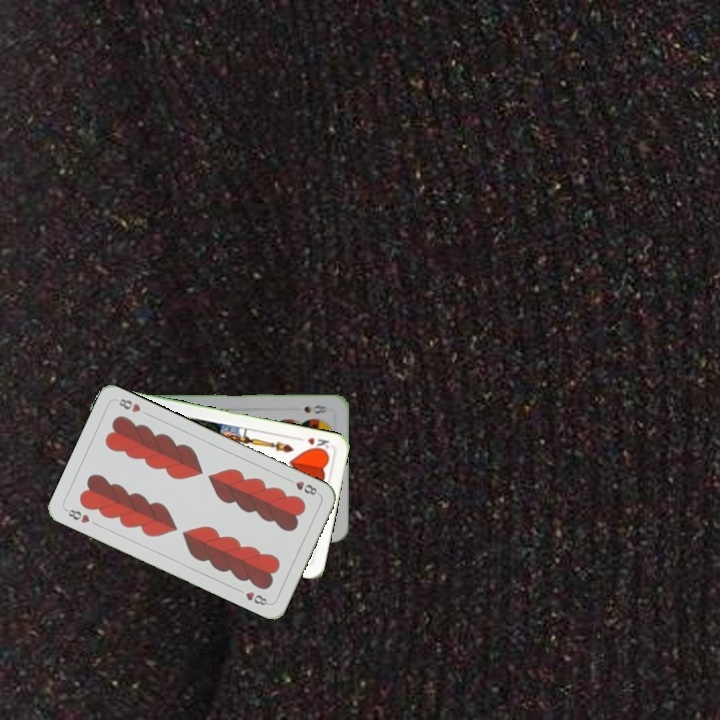H8: (283, 475, 322, 498), (62, 505, 92, 526)
HK: (293, 433, 332, 454)
S8: (300, 400, 333, 416)
